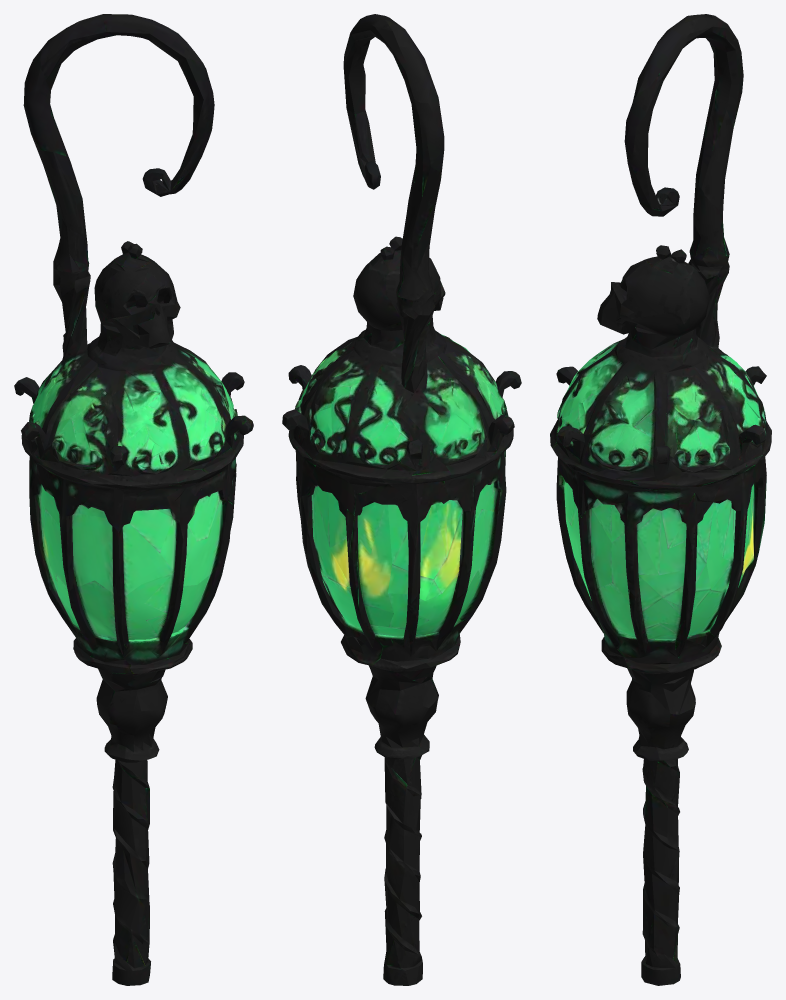
The model's file is lanterna.glb.
The picture shows the model from 3 angles, left to right: view 1: azimuth 30°, elevation 25°; view 2: azimuth 150°, elevation 25°; view 3: azimuth 270°, elevation 25°; orthographic projection.
Size of the model in its own units: 0.4562 by 1.9 by 0.3995.
1 material, 1 textured.
